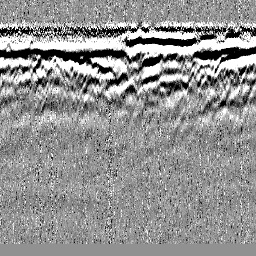cavity: (119, 78, 139, 102)
